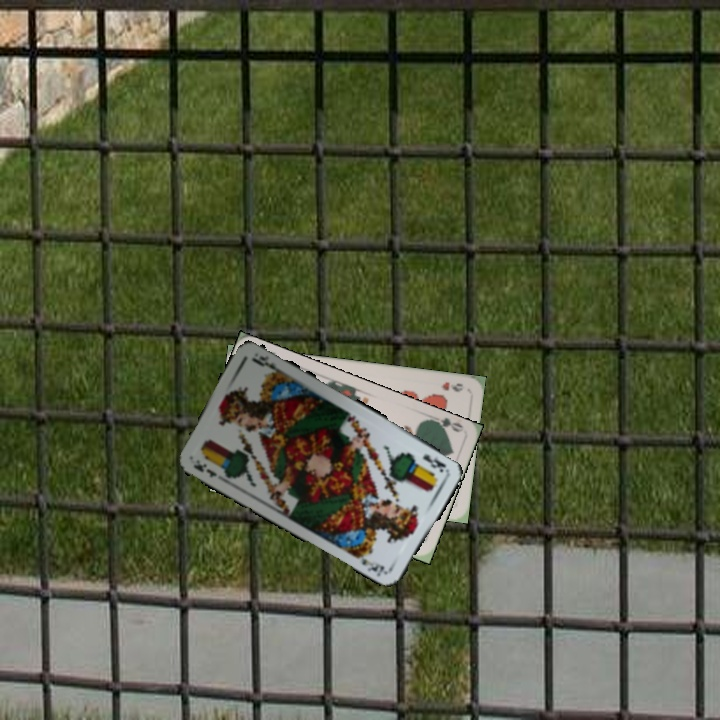EK: (419, 450, 449, 475), (189, 456, 219, 480)
GO: (424, 414, 465, 436)
H9: (437, 378, 465, 395)
